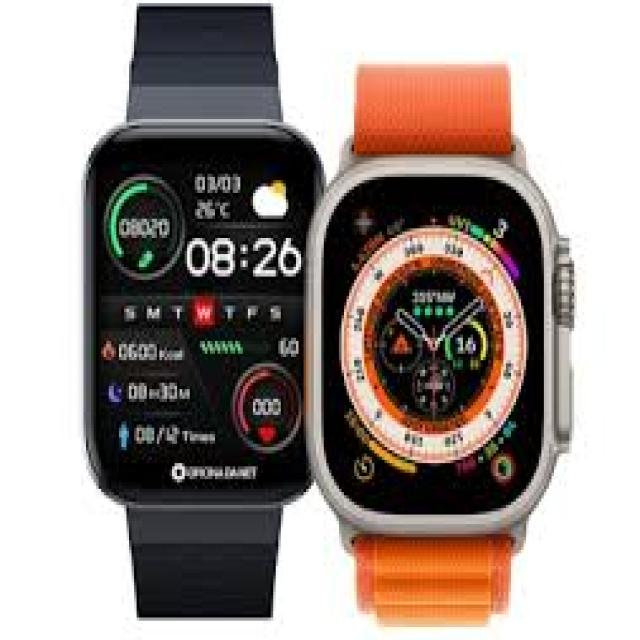objects: (86, 6, 321, 614), (316, 64, 572, 621)
